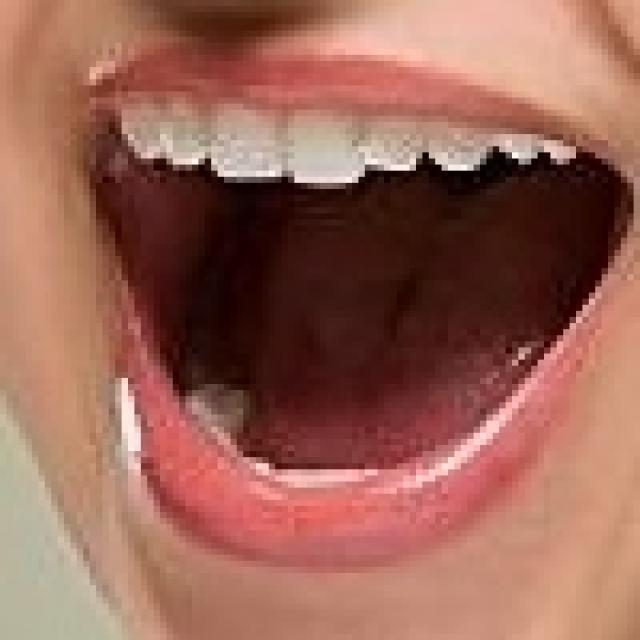open-mouth: (71, 30, 634, 567)
